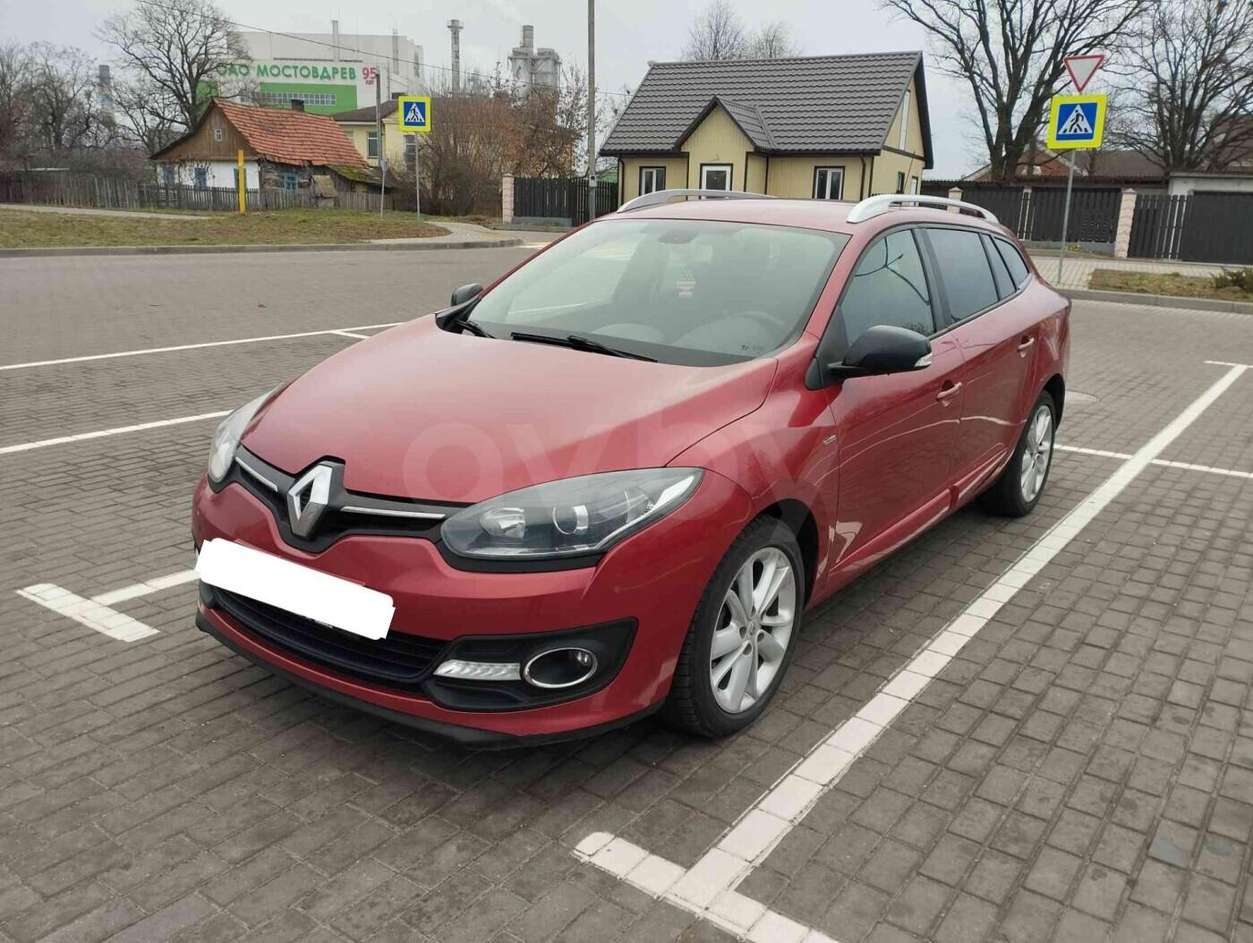Megane_2014-2016: (194, 188, 1071, 750)
